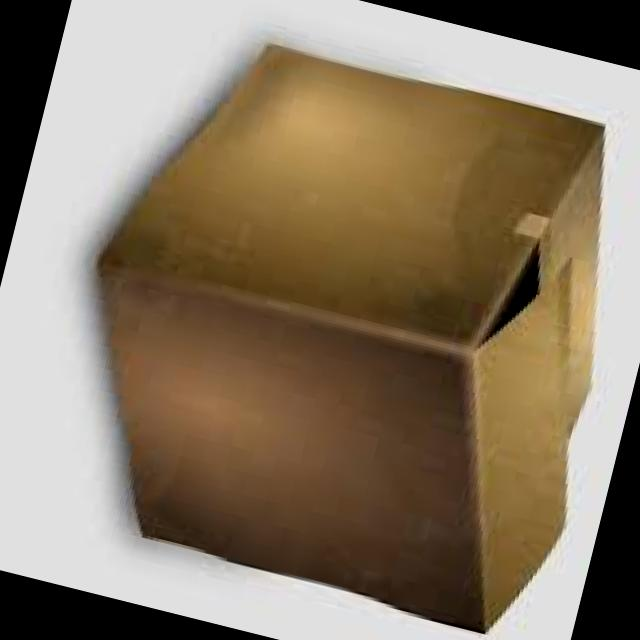cardboard: (100, 47, 602, 632)
